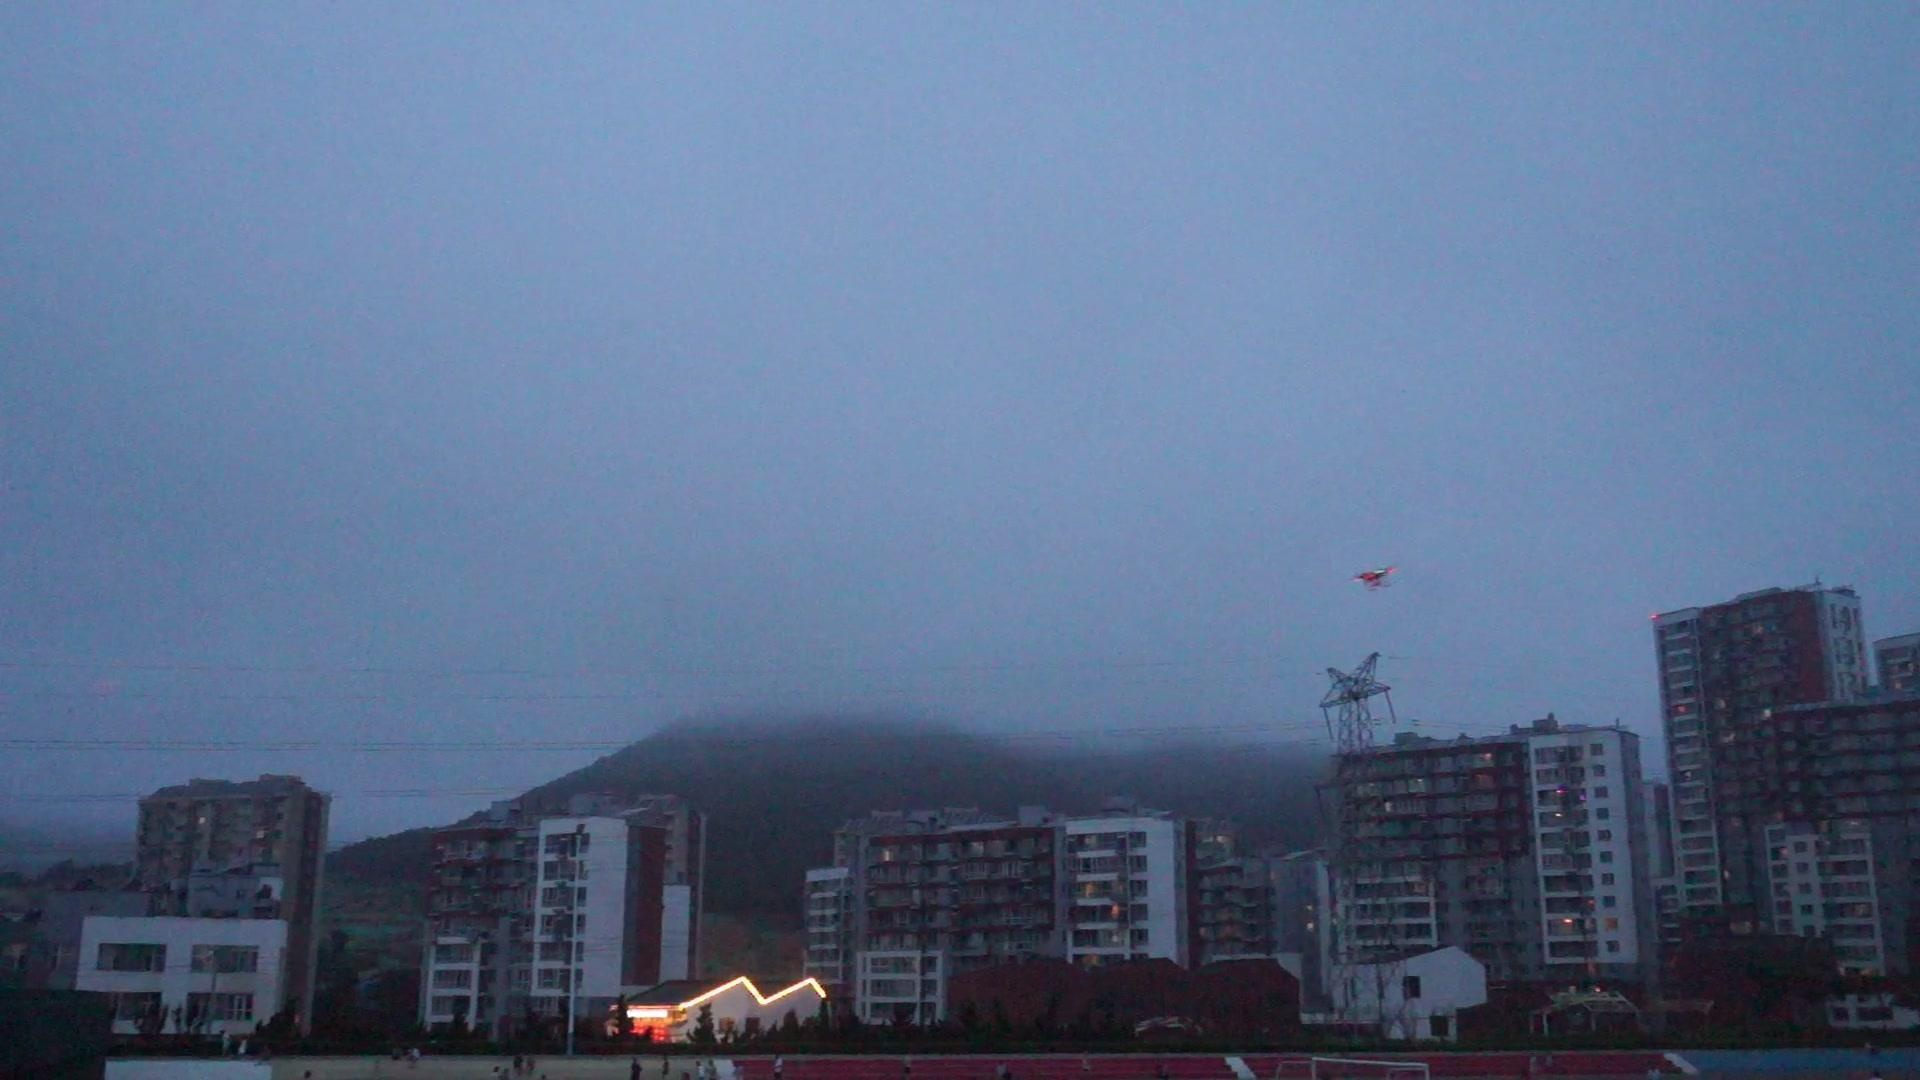UAV: (1350, 567, 1400, 592)
